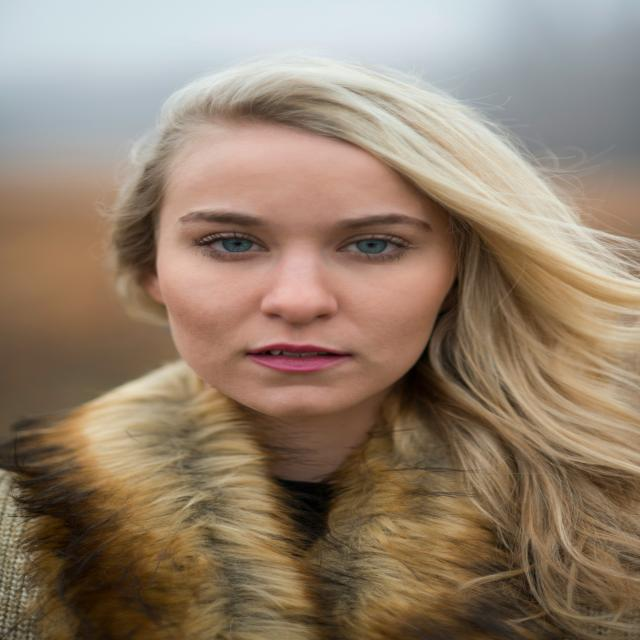human: (5, 71, 640, 640)
